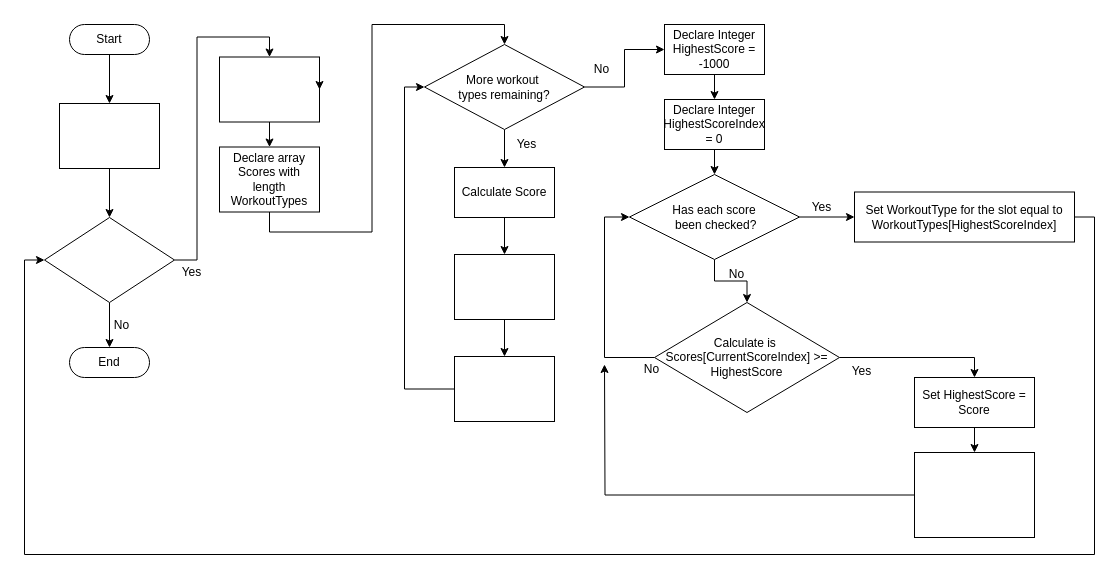
Some shapes in this 1120 by 580 pixel diagram are drawn without their labels. Each missing label, with the box of its shape:
Any workout slots remaining?: (44, 216, 174, 302)
Declare Integer WorkoutTypeIndex = 0: (218, 56, 320, 122)
Retrieve user profile settings and workout history: (58, 102, 160, 168)
Set HighestScoreIndex = current Score index position: (914, 452, 1034, 538)
Store the score in Scores at index position WorkoutTypeIndex: (454, 254, 554, 320)
WorkoutTypeIndex += 1: (454, 356, 554, 422)
